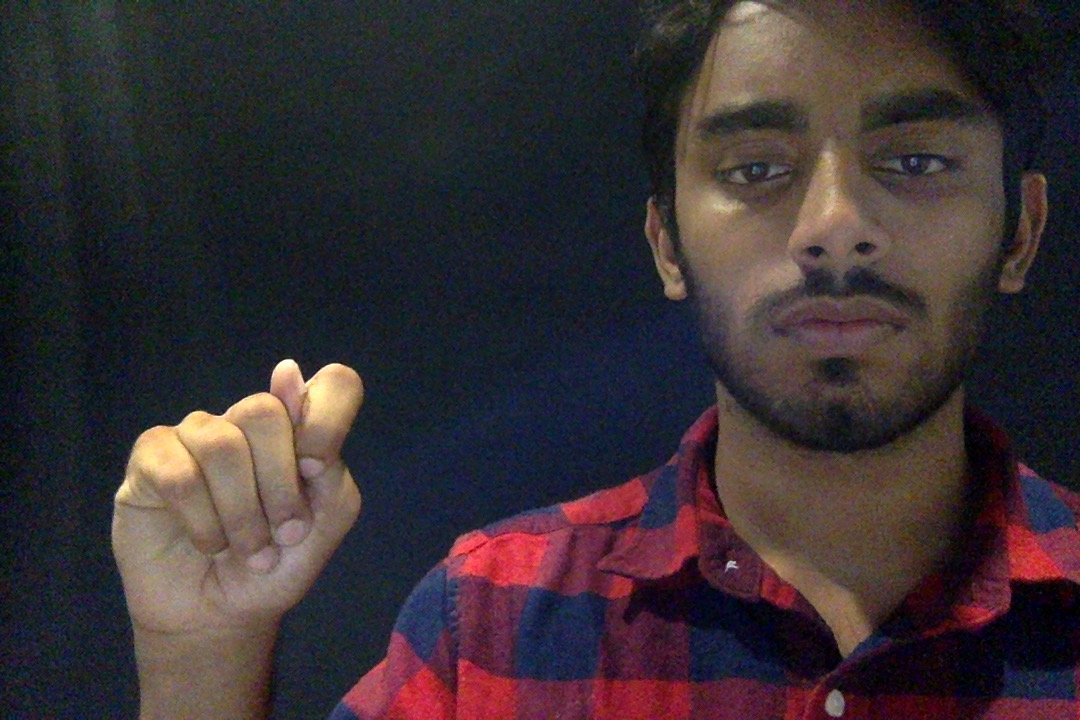t: (102, 335, 377, 677)
